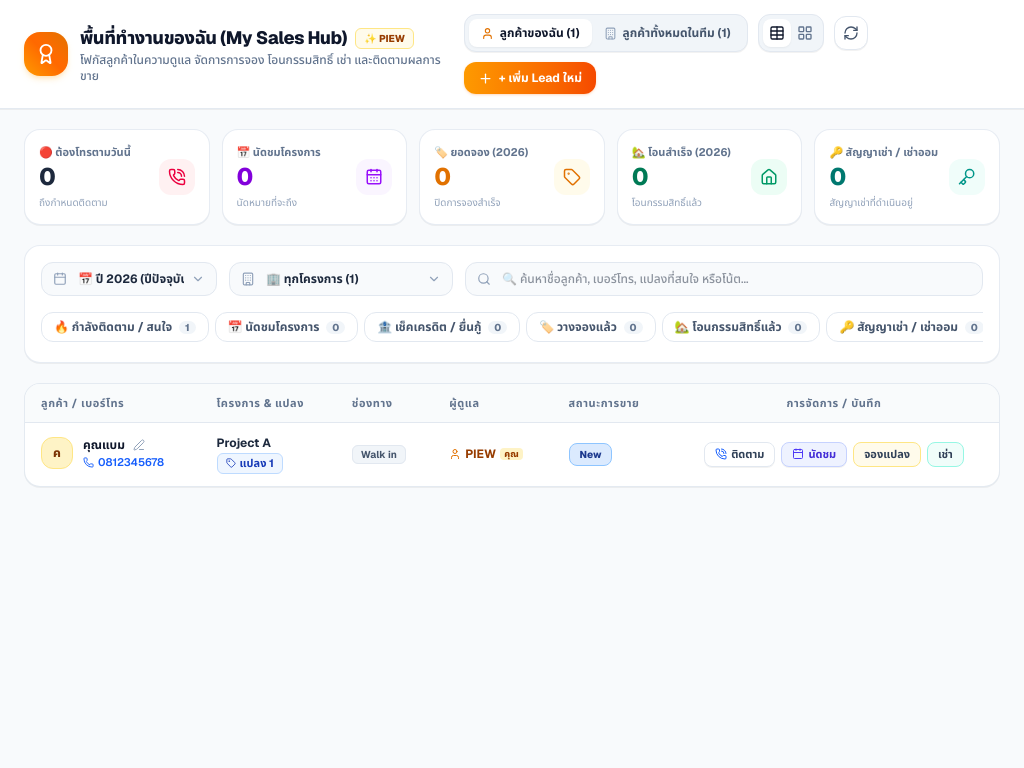
Test case: Customer Name & Phone Editing in My Sales Workspace › renders edit button and opens the edit modal with current name and phone
This screenshot has width=1024, height=768.
Check: the text "คุณแบม" is shown, box [83,437,125,453]
Click the button titled "แก้ไขชื่อและเบอร์โทรลูกค้า".
click(139, 445)  # box [131,437,147,453]
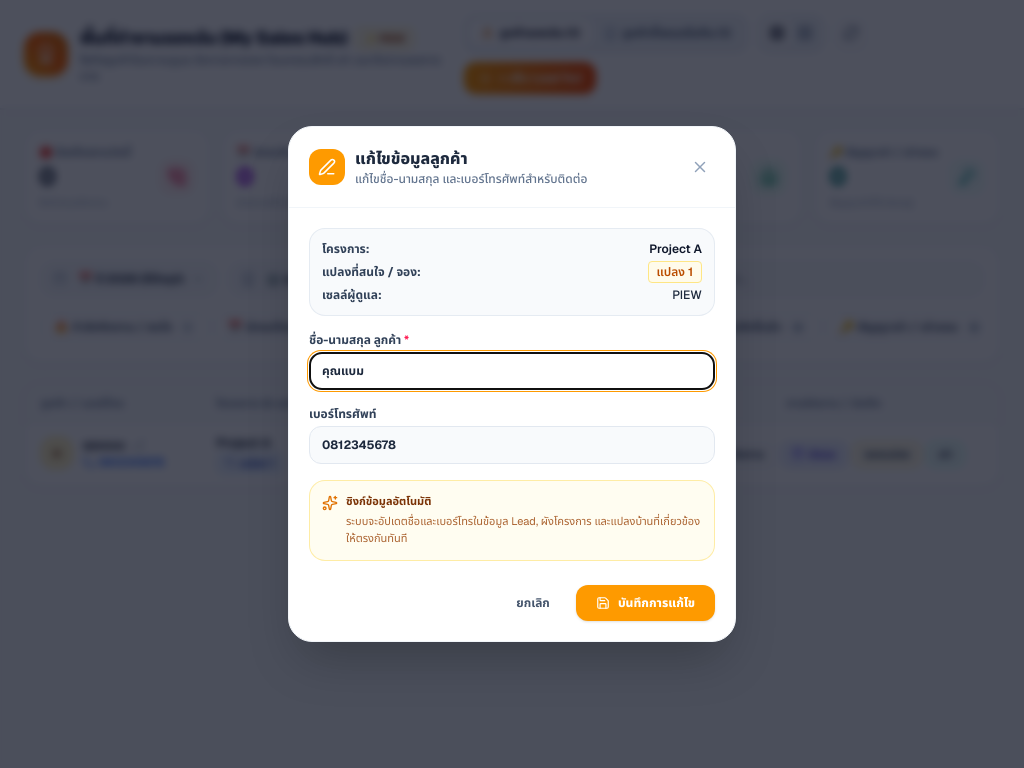
Check: the heading "แก้ไขข้อมูลลูกค้า" is shown, box [355,148,468,169]
Check: the field with placeholder "เช่น นาย สมชาย ใจดี หรือ คุณสมชาย" below "ชื่อ-นามสกุล ลูกค้า" holds "คุณแบม", box [309,352,715,390]
Check: the 2nd field with placeholder "เช่น 0812345678" holds "0812345678", box [309,426,715,464]
